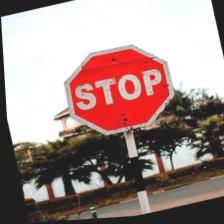Stop: (54, 38, 180, 144)
